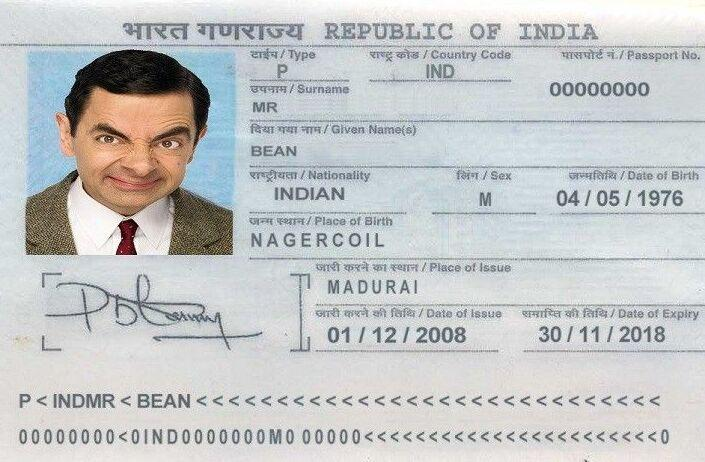DOB: (535, 184, 700, 216)
Surname: (246, 97, 366, 125)
country_code: (402, 59, 479, 84)
date_of_expiry: (532, 321, 699, 349)
date_of_issue: (310, 318, 486, 348)
details: (5, 361, 697, 455)
name: (246, 139, 416, 167)
nationality: (247, 183, 421, 210)
passport_no: (526, 71, 705, 102)
photo: (40, 60, 233, 254)
place_of_birth: (249, 218, 436, 258)
place_of_issue: (309, 274, 438, 303)
sex: (445, 181, 506, 212)
sign: (40, 274, 290, 341)
type: (254, 57, 326, 83)
